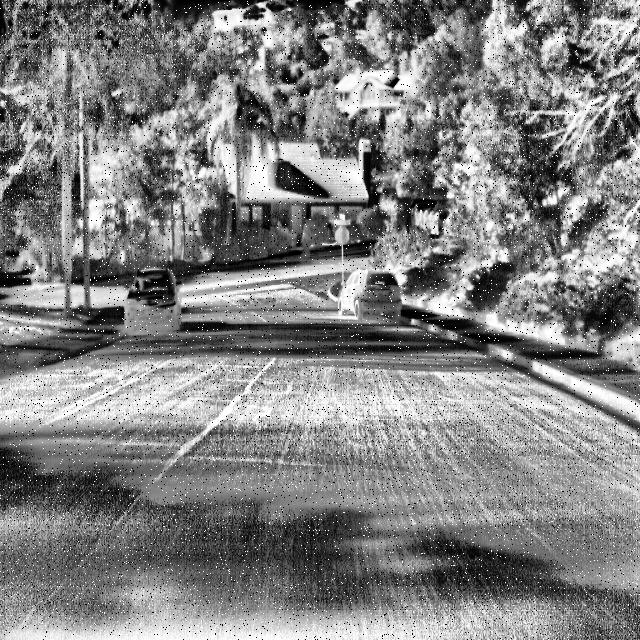car: (330, 261, 402, 328), (128, 260, 185, 336)
